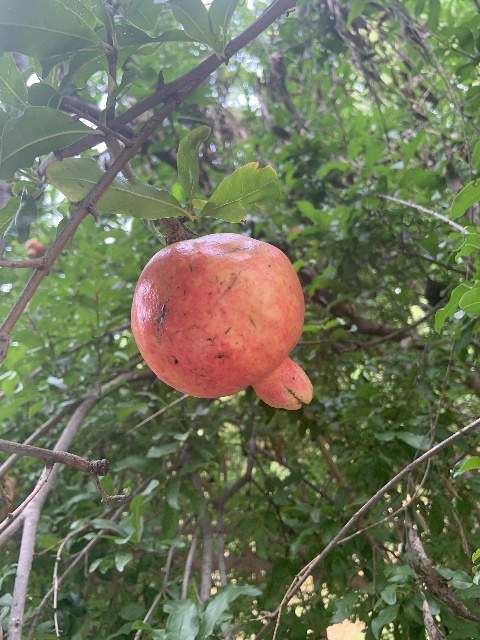ripe: (129, 233, 314, 410), (26, 237, 45, 258)
